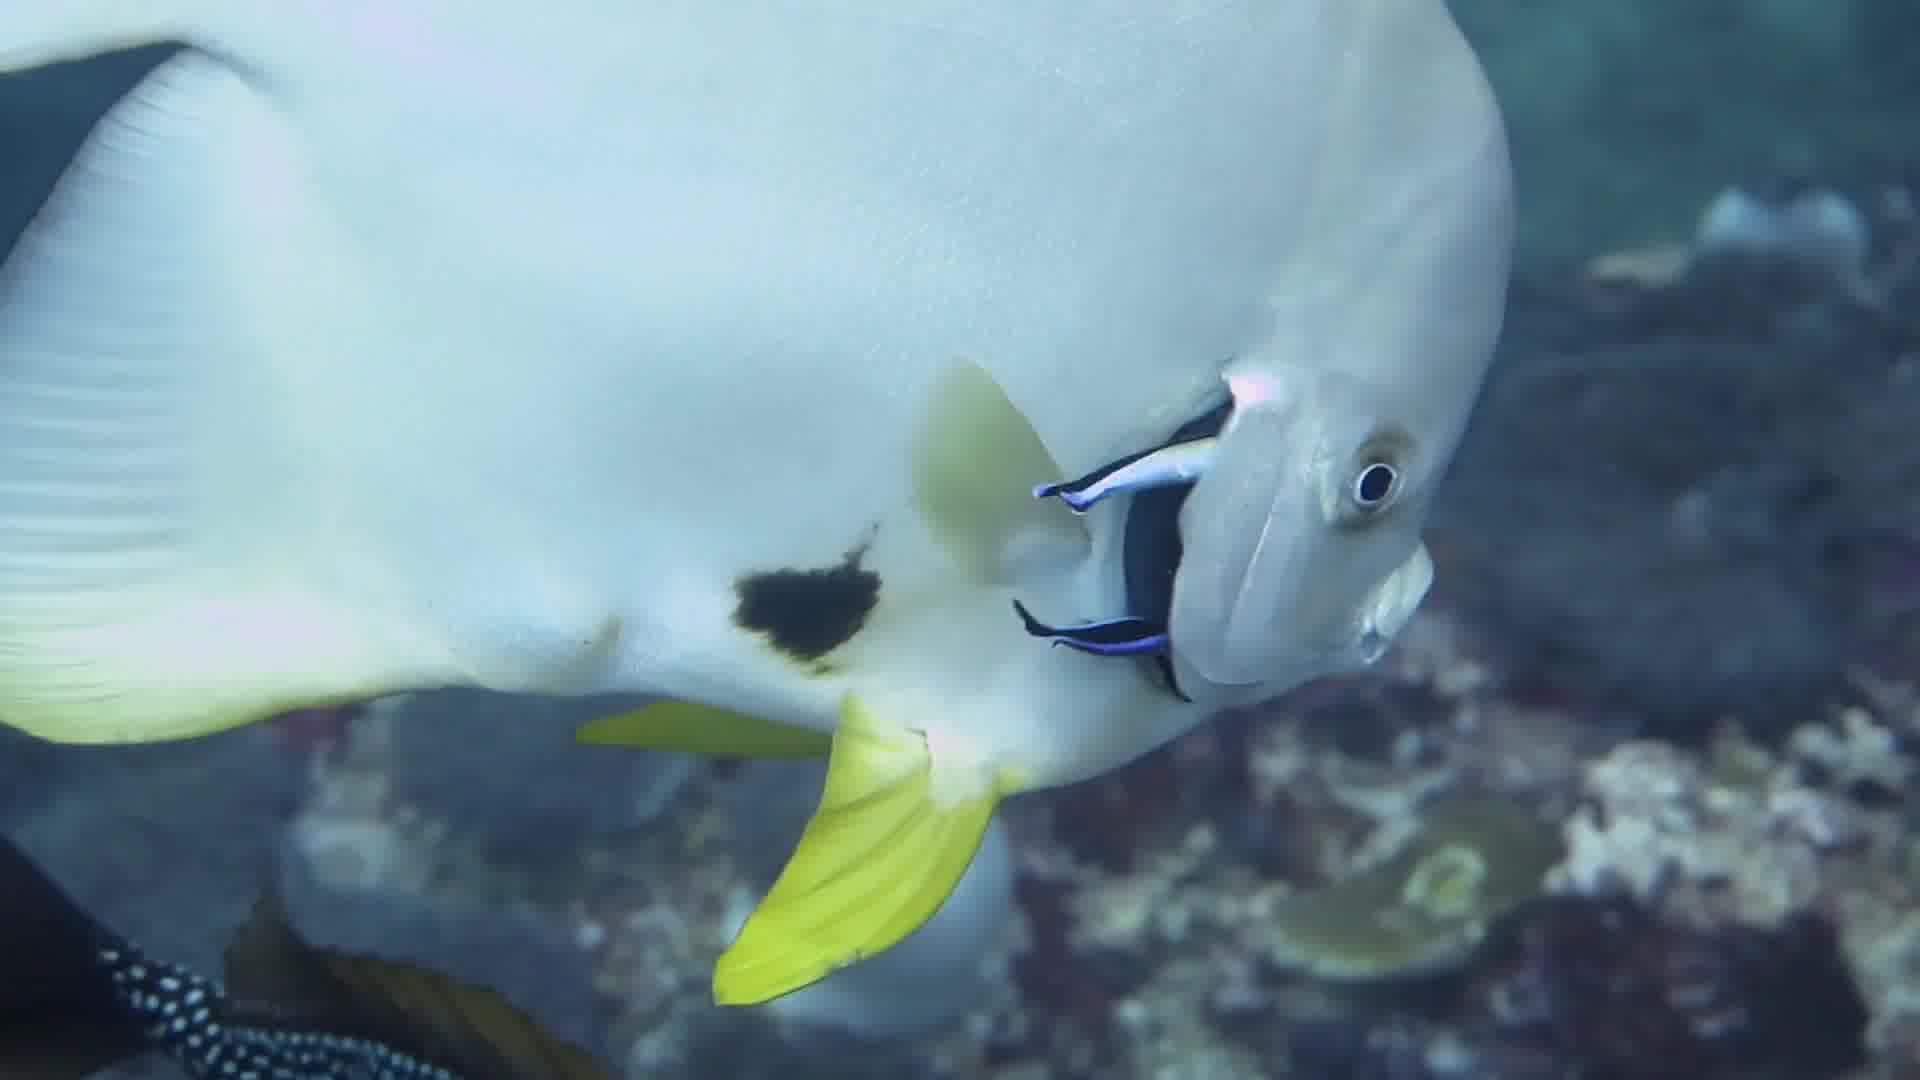Platax teira: (1, 1, 1518, 1007)
